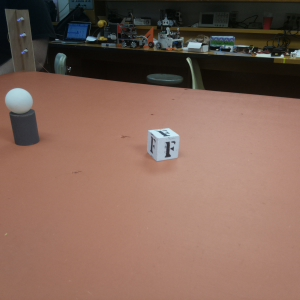blockF: (146, 129, 180, 162)
corner: (6, 10, 36, 72)
obstacle: (5, 87, 41, 147)
